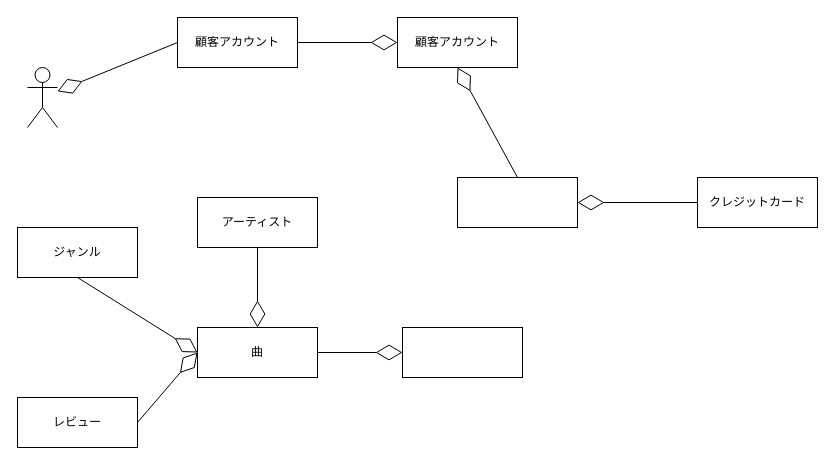
Some shapes in this 835 by 466 pixel diagram are drawn without their labels. The centre of each missing label's shape, as x and y in pixels:
検索結果: the point at 462,352
購入: the point at 517,202
顧客: the point at 42,97
